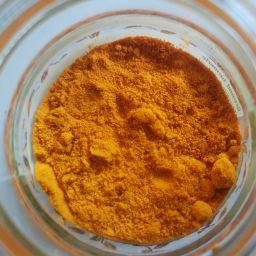Turmeric dried: (48, 37, 224, 238), (74, 80, 208, 222)
